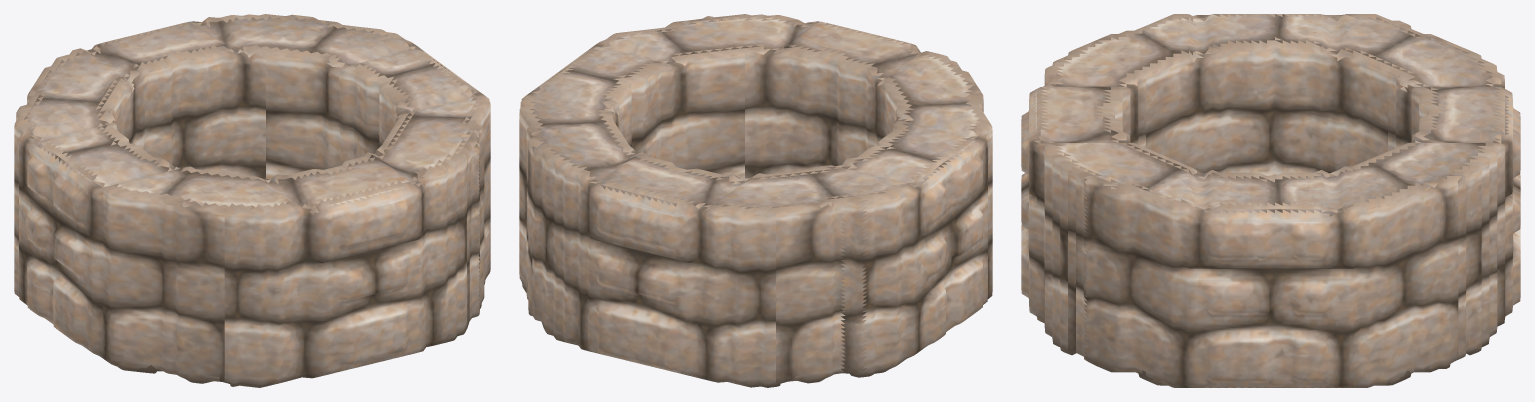
The model's file is stone-ring.glb.
3 renders of one model, left to right at view 1: azimuth 30°, elevation 25°; view 2: azimuth 150°, elevation 25°; view 3: azimuth 270°, elevation 25°, orthographic. The views are drawn at different scales.
Size of the model in its own units: 2.39 by 1 by 2.42.
Materials: 1 (1 with a texture image).
